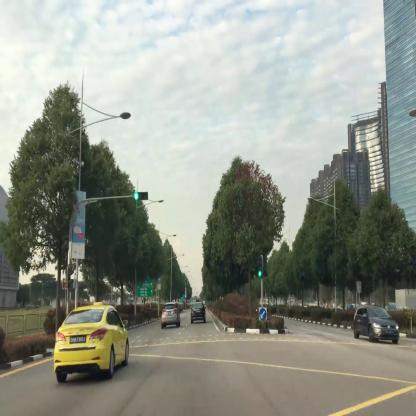green_traffic_light: (135, 192, 148, 199), (258, 257, 261, 277)
